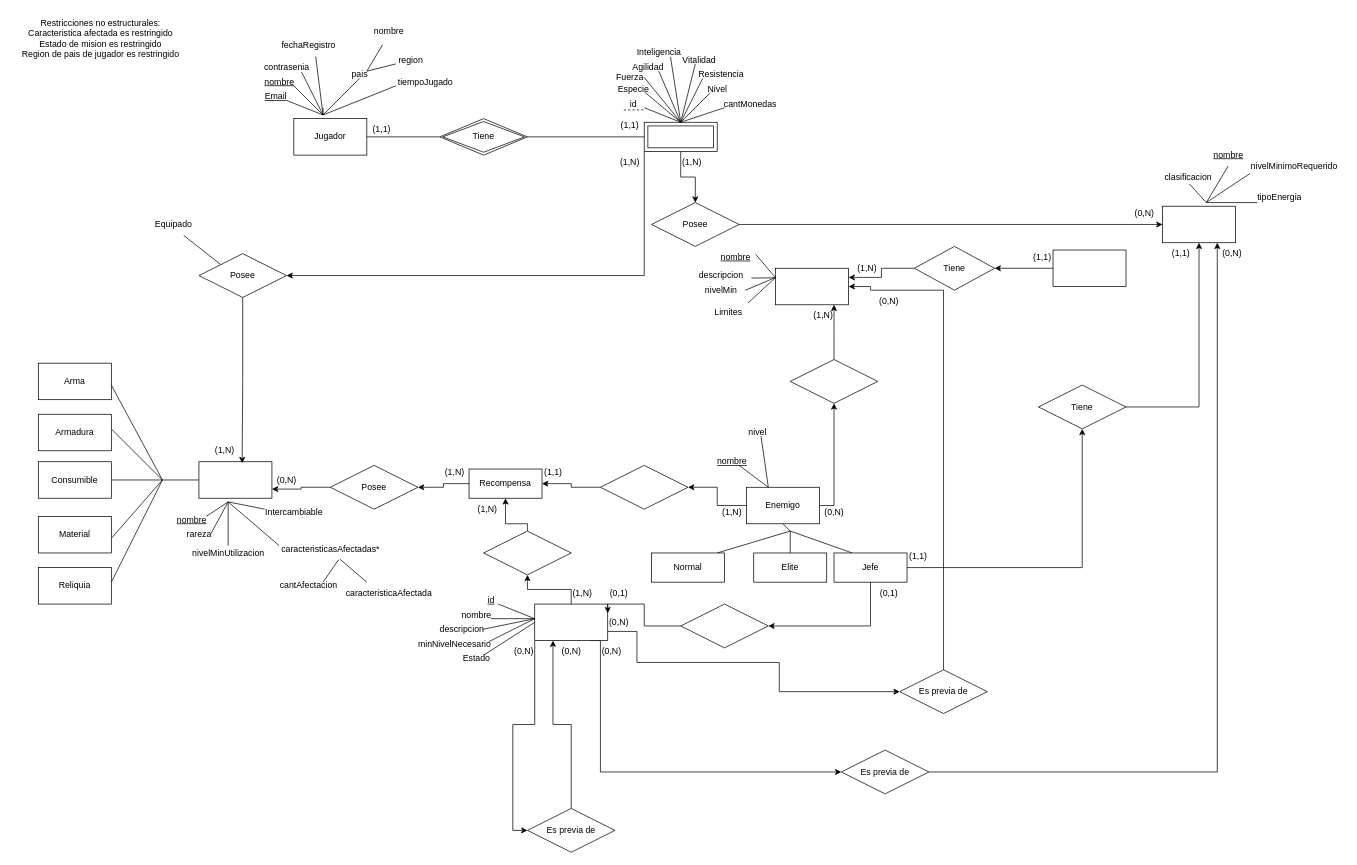
This 1357x865 diagram has some shape labels left out. Here are the shapes that lost their labels. From the top down, the box of each, then its label:
(643, 122, 717, 151): Personaje
(1162, 205, 1236, 243): Habilidades
(775, 268, 849, 305): Zona
(1052, 249, 1126, 287): Mapa
(789, 359, 878, 403): Habita
(198, 461, 272, 498): Item
(600, 465, 688, 509): Deja
(483, 530, 571, 575): Da
(534, 603, 608, 641): Misiones
(680, 603, 768, 648): Aparece en
